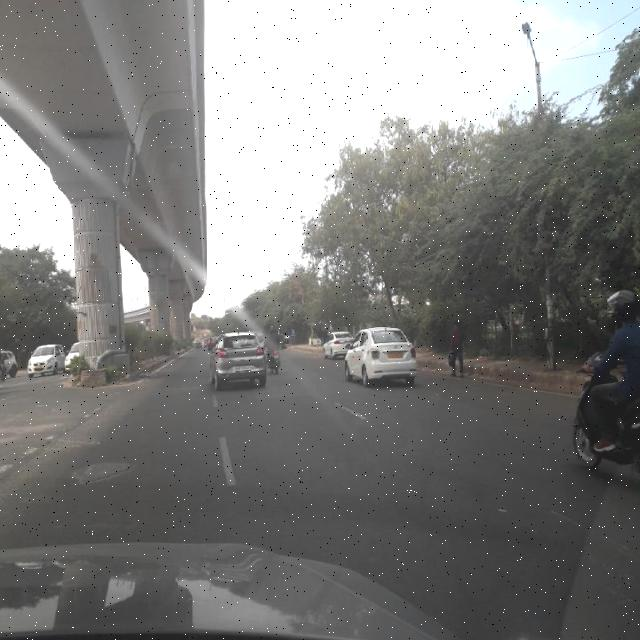D20: (418, 468, 640, 614)
